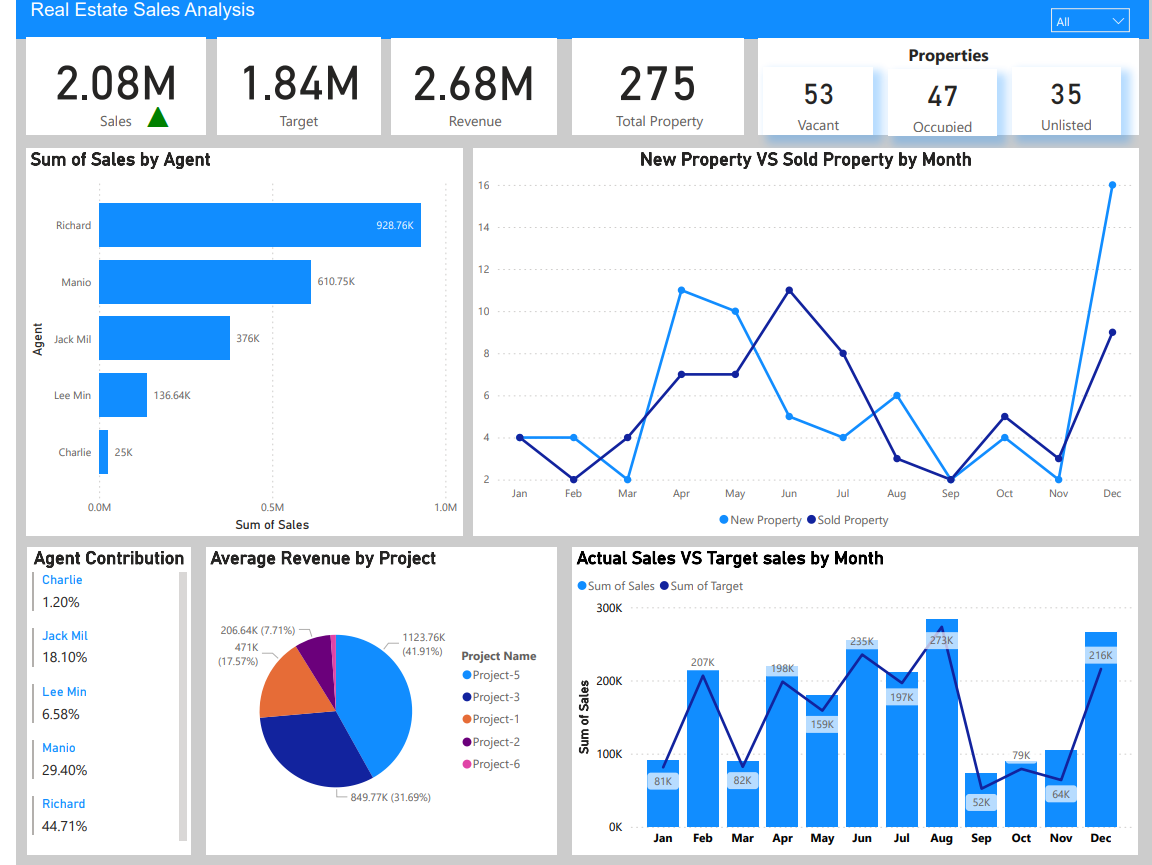

What the dashboard file says about the page in this screenshot:
{"tool":"powerbi","page":{"name":"Home","canvas":[1280,1000],"ordinal":0},"visuals":[{"type":"shape","box":[0,0,1280.3,65],"z":0},{"type":"textbox","box":[11.3,15.5,278.4,38.2],"z":1000},{"type":"card","fields":{"Values":["Sum(Real Estate Data.Sales)"]},"box":[11.3,63.6,203.5,110.2],"z":2000},{"type":"textbox","box":[839.7,65.6,429.6,108.8],"z":3000},{"type":"card","fields":{"Values":["Sum(Real Estate Data.Target)"]},"box":[227.5,63.6,185.1,110.2],"z":4000},{"type":"card","fields":{"Values":["Sum(Real Estate Data.Revenue)"]},"box":[423.9,65,186.5,108.8],"z":5000},{"type":"card","fields":{"Values":["Sum(Real Estate Data.Total Property)"]},"box":[628.8,65,193.6,108.8],"z":6000},{"type":"card","fields":{"Values":["CountNonNull(Real Estate Data.Property Status)"]},"box":[845,97.5,124.4,76.3],"z":7000},{"type":"card","fields":{"Values":["DimDate.occupied"]},"box":[986.4,100.3,122.9,74.9],"z":8000},{"type":"card","fields":{"Values":["Real Estate Data.unlisted"]},"box":[1126.3,97.5,122.9,76.3],"z":9000},{"type":"barChart","fields":{"Y":["Sum(Real Estate Data.Sales)"],"Category":["Real Estate Data.Agent"]},"box":[11.3,189.4,493.2,438.1],"z":10000},{"type":"lineChart","title":"New Property VS Sold Property by Month","fields":{"Y":["Real Estate Data.New Property","Real Estate Data.Sold Property"],"Category":["DimDate.Month Name"]},"box":[517.2,189.4,751.8,438.1],"z":11000},{"type":"multiRowCard","title":"Agent Contribution","fields":{"Values":["Real Estate Data.Agent","Real Estate Data.Agent Contribution"]},"box":[12.7,640.1,185.1,347.6],"z":12000},{"type":"pieChart","title":"Average Revenue by Project ","fields":{"Category":["Real Estate Data.Project Name"],"Y":["Sum(Real Estate Data.Revenue)"]},"box":[214.8,640.1,395.7,347.6],"z":13000},{"type":"lineStackedColumnComboChart","title":"Actual Sales VS Target sales by Month","fields":{"Category":["DimDate.Month Name"],"Y":["Sum(Real Estate Data.Sales)"],"Y2":["Sum(Real Estate Data.Target)"]},"box":[628.8,640.1,638.7,347.6],"z":14000},{"type":"slicer","fields":{"Values":["DimDate.Year"]},"box":[1160.2,2.8,108.8,60.8],"z":15000},{"type":"card","fields":{"Values":["Real Estate Data.Icon for Sales"]},"box":[122.9,138.5,74.9,48],"z":16000}]}

Visuals, with their boxes on the page's 1280x1000 design canvas (x1, y1, x2, y2). These are canvas units, not pixel positions in the 1152x865 screenshot, which may show the page scaled, cropped or inside an application window:
shape: 0, 0, 1280, 65
textbox: 11, 16, 290, 54
card - Sum(Real Estate Data.Sales): 11, 64, 215, 174
textbox: 840, 66, 1269, 174
card - Sum(Real Estate Data.Target): 228, 64, 413, 174
card - Sum(Real Estate Data.Revenue): 424, 65, 610, 174
card - Sum(Real Estate Data.Total Property): 629, 65, 822, 174
card - CountNonNull(Real Estate Data.Property Status): 845, 98, 969, 174
card - DimDate.occupied: 986, 100, 1109, 175
card - Real Estate Data.unlisted: 1126, 98, 1249, 174
barChart - Sum(Real Estate Data.Sales) x Real Estate Data.Agent: 11, 189, 504, 628
"New Property VS Sold Property by Month" lineChart: 517, 189, 1269, 628
"Agent Contribution" multiRowCard: 13, 640, 198, 988
"Average Revenue by Project " pieChart: 215, 640, 610, 988
"Actual Sales VS Target sales by Month" lineStackedColumnComboChart: 629, 640, 1268, 988
slicer - DimDate.Year: 1160, 3, 1269, 64
card - Real Estate Data.Icon for Sales: 123, 138, 198, 186
